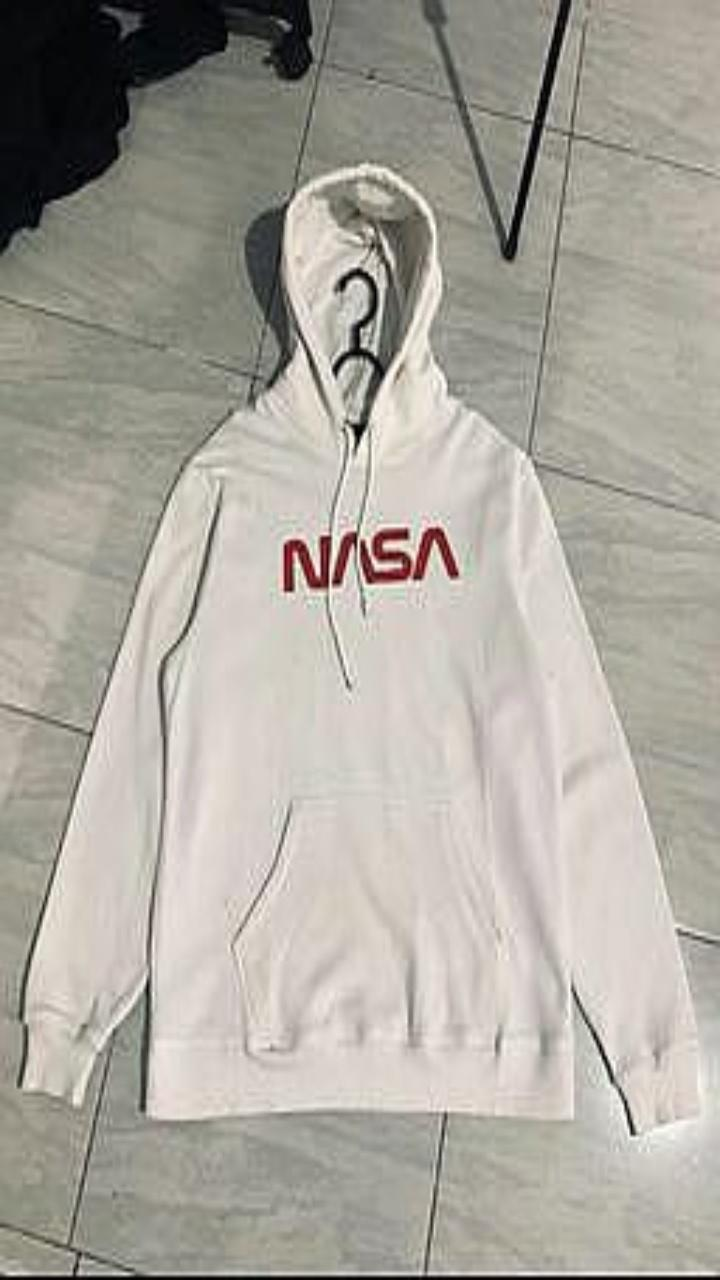Hoodie: (21, 164, 697, 1131)
